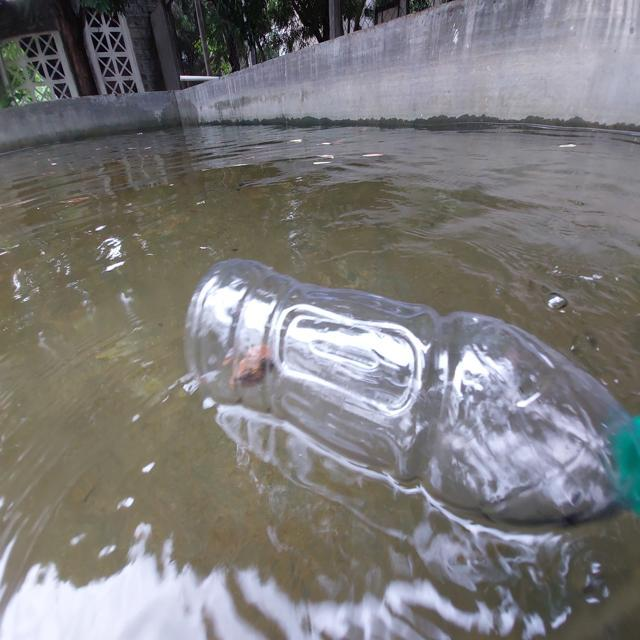waterbottle: (172, 240, 640, 537)
